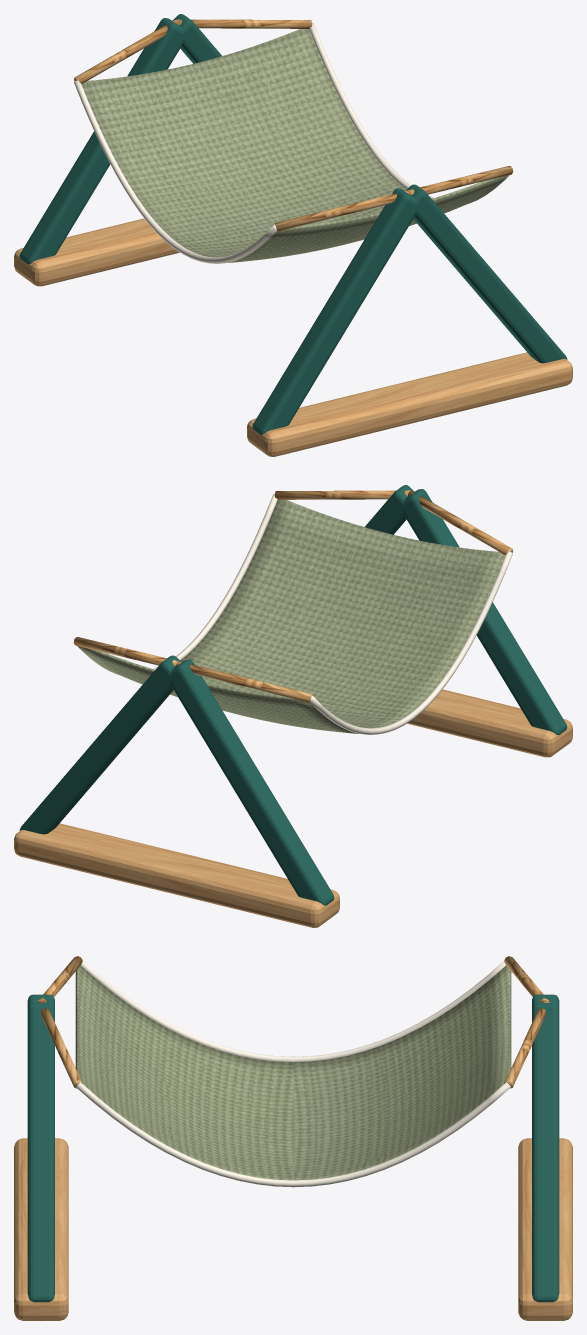
The model's file is hammock.glb.
3 views of the same model, one above another, from view 1: azimuth 30°, elevation 25°; view 2: azimuth 150°, elevation 25°; view 3: azimuth 270°, elevation 25° (orthographic). The views are drawn at different scales.
Parts seen in each view (by area): view 1: hammock; view 2: hammock; view 3: hammock.
Part boxes in pixels (box(x1,y1,x2,y2)): hammock: box(14, 14, 572, 456); hammock: box(14, 485, 572, 927); hammock: box(14, 956, 572, 1320).
Bounding box in the file's own units: 1.05 × 0.7358 × 1.53.
5 materials, 3 textured.
